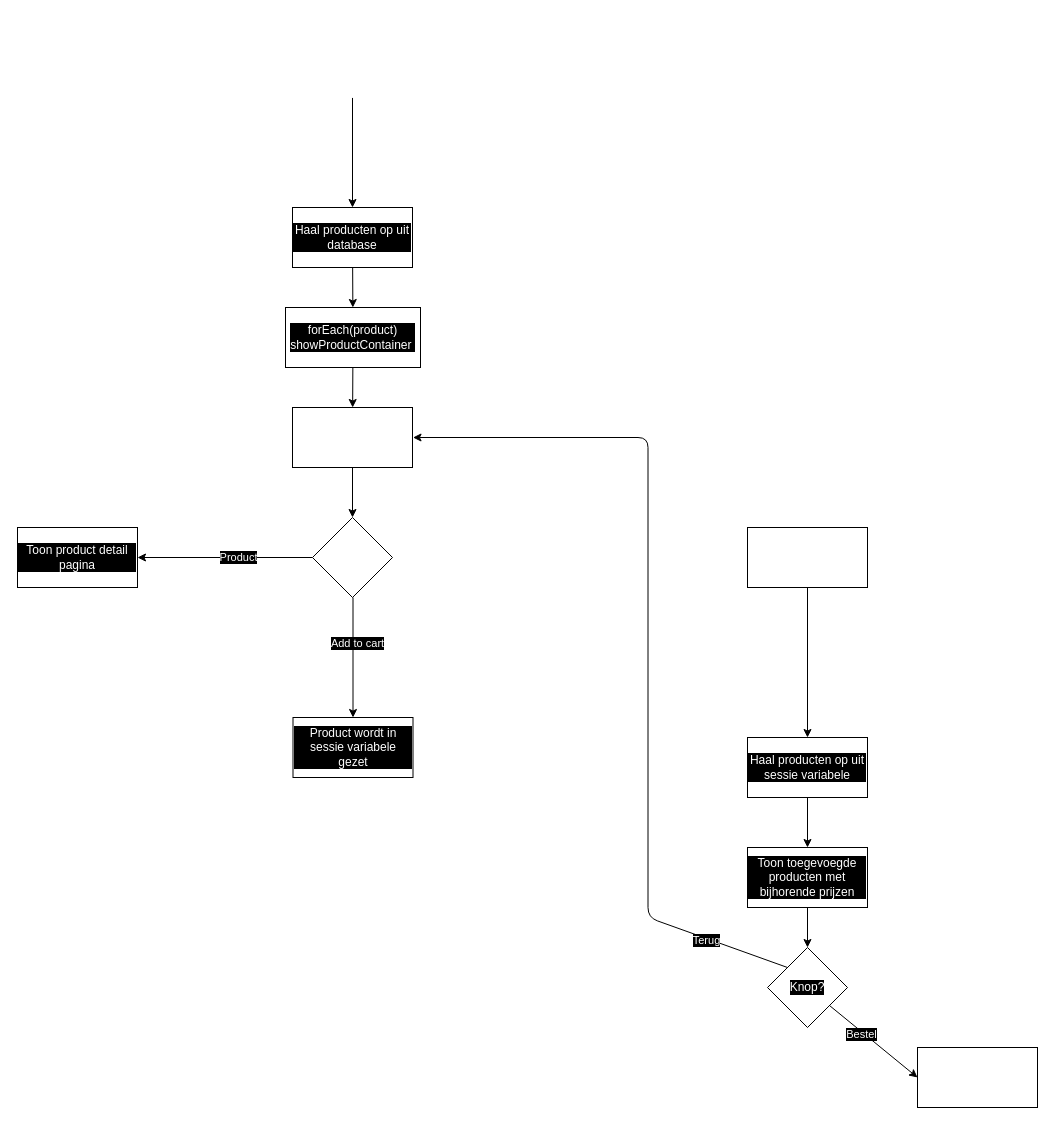
The diagram is 1055 pixels wide and 1125 high, and some of its shapes have lost their labels. The shapes that lost their labels are listed below. From the top down, each one's centre as x and y in pixels, then its label:
At point (352, 437): "Toon producten pagina".
At point (352, 557): "Link?".
At point (807, 557): "CART".
At point (977, 1077): "Bestelling wordt opgeslagen in database".
